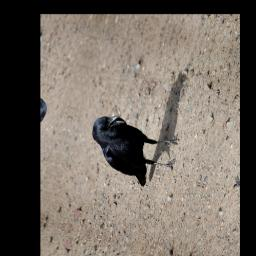Crow: (81, 109, 184, 193)
